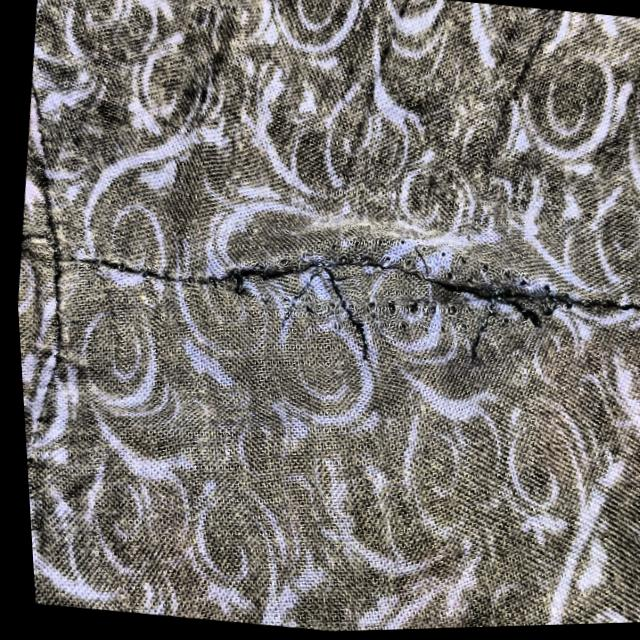seam: (180, 181, 572, 416)
